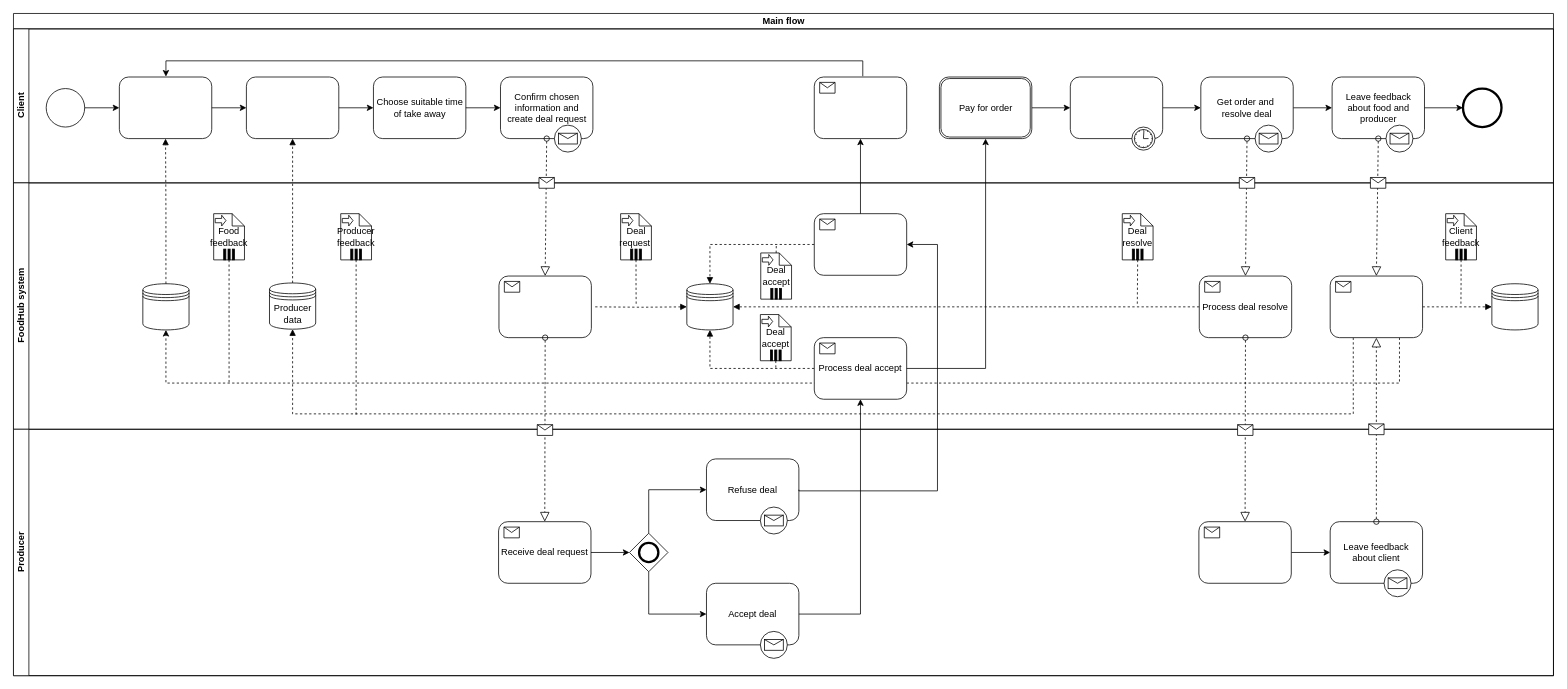
This 1567x689 diagram has some shape labels left out. Each missing label, with the centre of its shape:
Client data: point 1514,306
Deal data: point 709,306
Food data: point 165,306
Get deal resolve information: point 1244,552
Process deal refuse: point 860,244
Process deal request: point 544,306
Process feedback: point 1376,306
Receive deal refuse information: point 860,107
Search and choose appropriate food: point 165,107
Search and choose suitable producer: point 292,107
Wait until order will ready: point 1116,107
